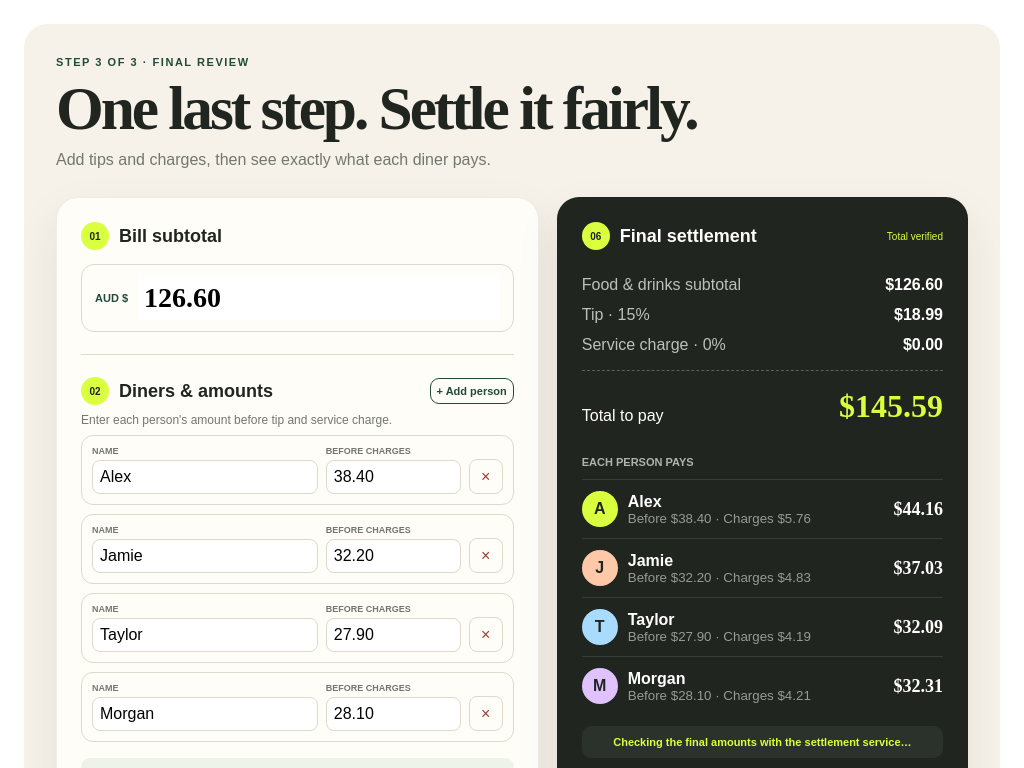
Scenario: validates the diner amounts against the bill subtotal
Replace the text in the number field named "Bill subtotal" with "100.00" at (319, 298), box [138,276,500,320]
(page scrolled)
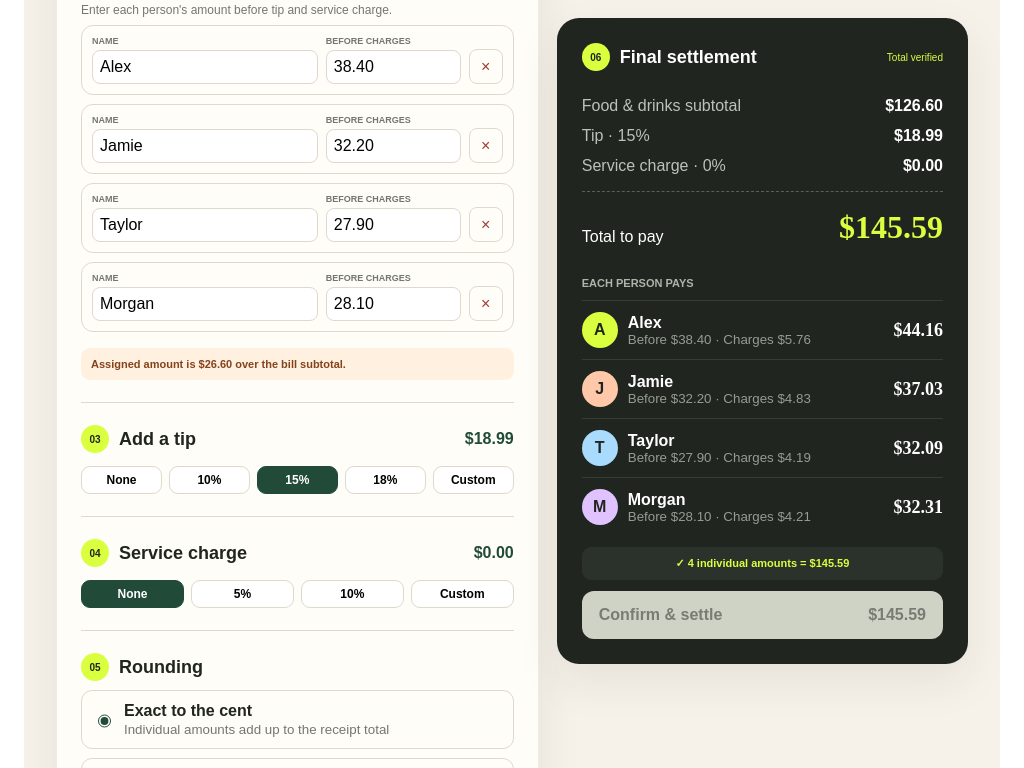
Expected: the button "Confirm & settle $145.59" is disabled, [582,591,943,639]
Now the text "Assigned amount is $26.60 over the bill subtotal." is shown, box [81,348,514,380]
